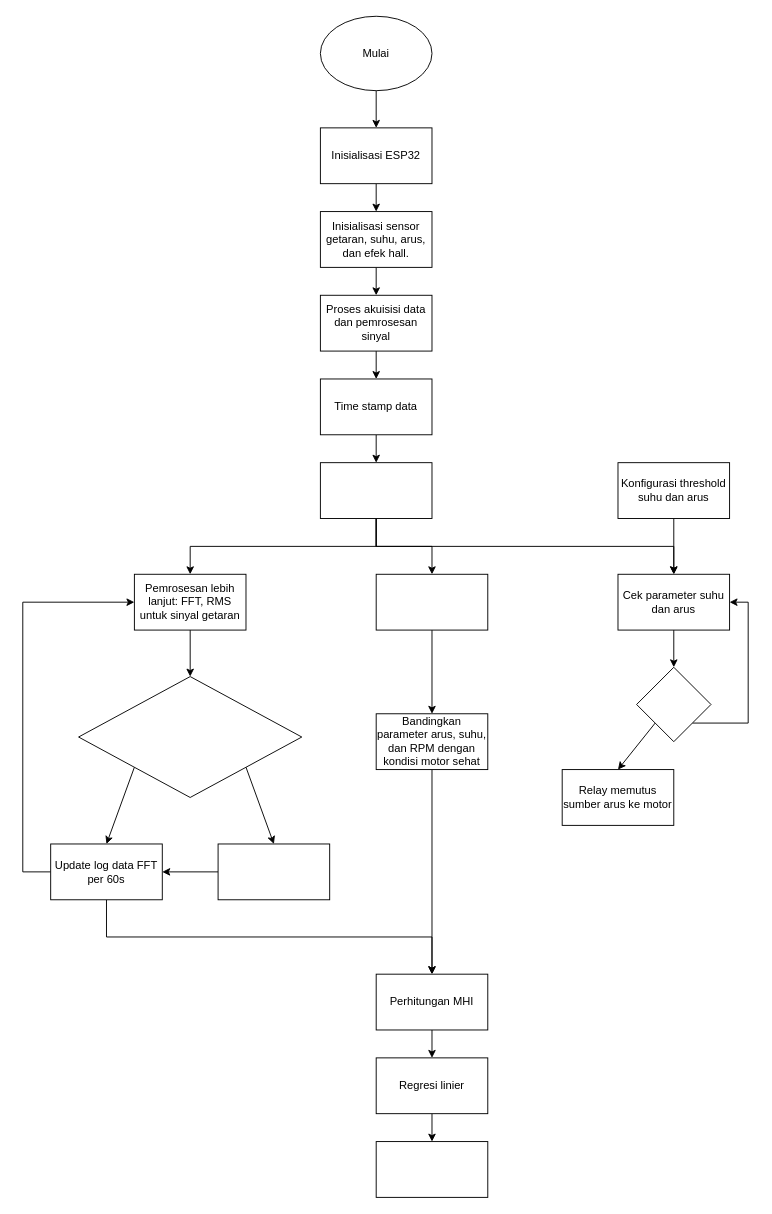
Some shapes in this 772 by 1214 pixel diagram are drawn without their labels. Here are the shapes that lost their labels. From the top down, the box of each, then its label:
(319, 462, 432, 518): Update ke cloud
(375, 573, 488, 630): Konfigurasi klasifikasi kondisi motor sehat
(636, 666, 711, 742): Melebihi threshold?
(78, 676, 302, 797): Indikasi signature kerusakan pada parameter getaran?
(217, 843, 330, 900): Notifikasi
(375, 1141, 488, 1197): Prediksi sisa umur motor
